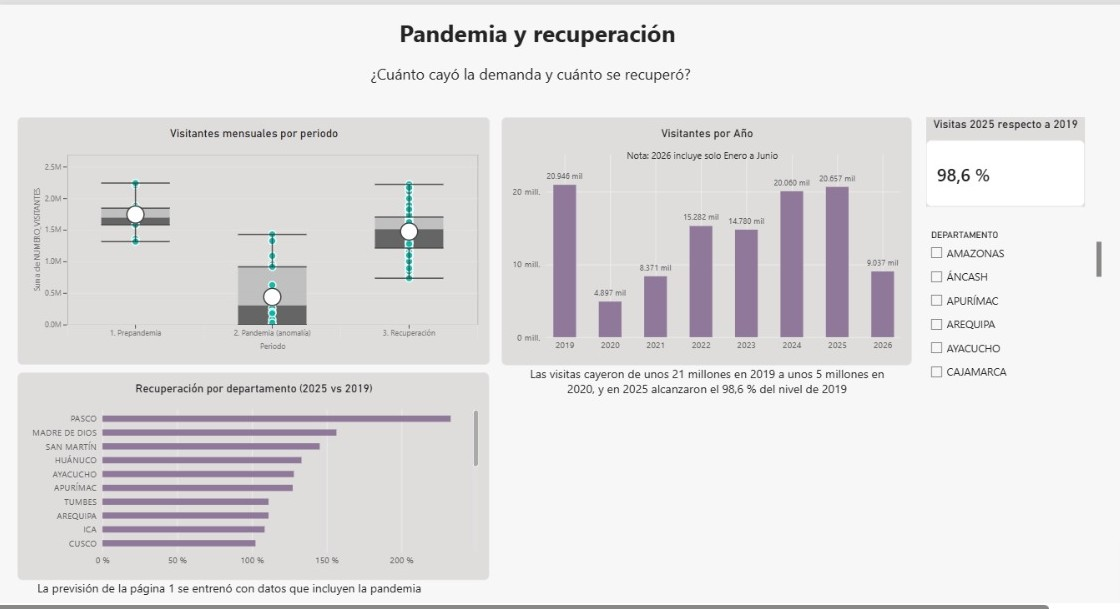

Layout of this report page (visuals, bound fields, positions):
{"tool":"powerbi","page":{"name":"Pandemia y recuperación","canvas":[1920,1080],"ordinal":3},"visuals":[{"type":"BoxandWhiskerByMAQ1823AD39DT234AB532063E128AX","title":"Visitantes mensuales por periodo","fields":{"categoryGroup":["dim_fecha.Periodo"],"measure":["Sum(Visitantes_sitios_turisticos.NUMERO_VISITANTES)"],"category":["dim_fecha.Fecha"]},"box":[35,180,754,396],"z":0},{"type":"textbox","box":[598.3,95,538.3,56.7],"z":1000},{"type":"textbox","box":[645,20,446.7,75],"z":2000},{"type":"slicer","fields":{"Values":["Visitantes_sitios_turisticos.DEPARTAMENTO"]},"box":[1486.7,360,280,250],"z":3000},{"type":"clusteredColumnChart","title":"Visitantes por Año","fields":{"Category":["dim_fecha.Año"],"Y":["Sum(Visitantes_sitios_turisticos.NUMERO_VISITANTES)"]},"box":[808.3,180,655,396.7],"z":4000},{"type":"textbox","box":[1008.3,230,278.3,43.3],"z":5000},{"type":"cardVisual","title":"Visitas 2025 respecto a 2019","fields":{"Data":["Visitantes_sitios_turisticos.Recuperación 2025 vs 2019"]},"box":[1486.7,180,253.3,143.3],"z":6000},{"type":"clusteredBarChart","title":"Recuperación por departamento (2025 vs 2019)","fields":{"Category":["dim_sitio.DEPARTAMENTO"],"Y":["Visitantes_sitios_turisticos.Recuperación 2025 vs 2019"]},"box":[35,588.3,753.3,331.7],"z":7000},{"type":"textbox","box":[66.7,920,741.7,58.3],"z":8000},{"type":"textbox","box":[831.7,576.7,610,150],"z":9000}]}

Visuals, with their boxes on the page's 1920x1080 design canvas (x1, y1, x2, y2). These are canvas units, not pixel positions in the 1120x609 screenshot, which may show the page scaled, cropped or inside an application window:
"Visitantes mensuales por periodo" BoxandWhiskerByMAQ1823AD39DT234AB532063E128AX: [35, 180, 789, 576]
textbox: [598, 95, 1137, 152]
textbox: [645, 20, 1092, 95]
slicer - Visitantes_sitios_turisticos.DEPARTAMENTO: [1487, 360, 1767, 610]
"Visitantes por Año" clusteredColumnChart: [808, 180, 1463, 577]
textbox: [1008, 230, 1287, 273]
"Visitas 2025 respecto a 2019" cardVisual: [1487, 180, 1740, 323]
"Recuperación por departamento (2025 vs 2019)" clusteredBarChart: [35, 588, 788, 920]
textbox: [67, 920, 808, 978]
textbox: [832, 577, 1442, 727]
